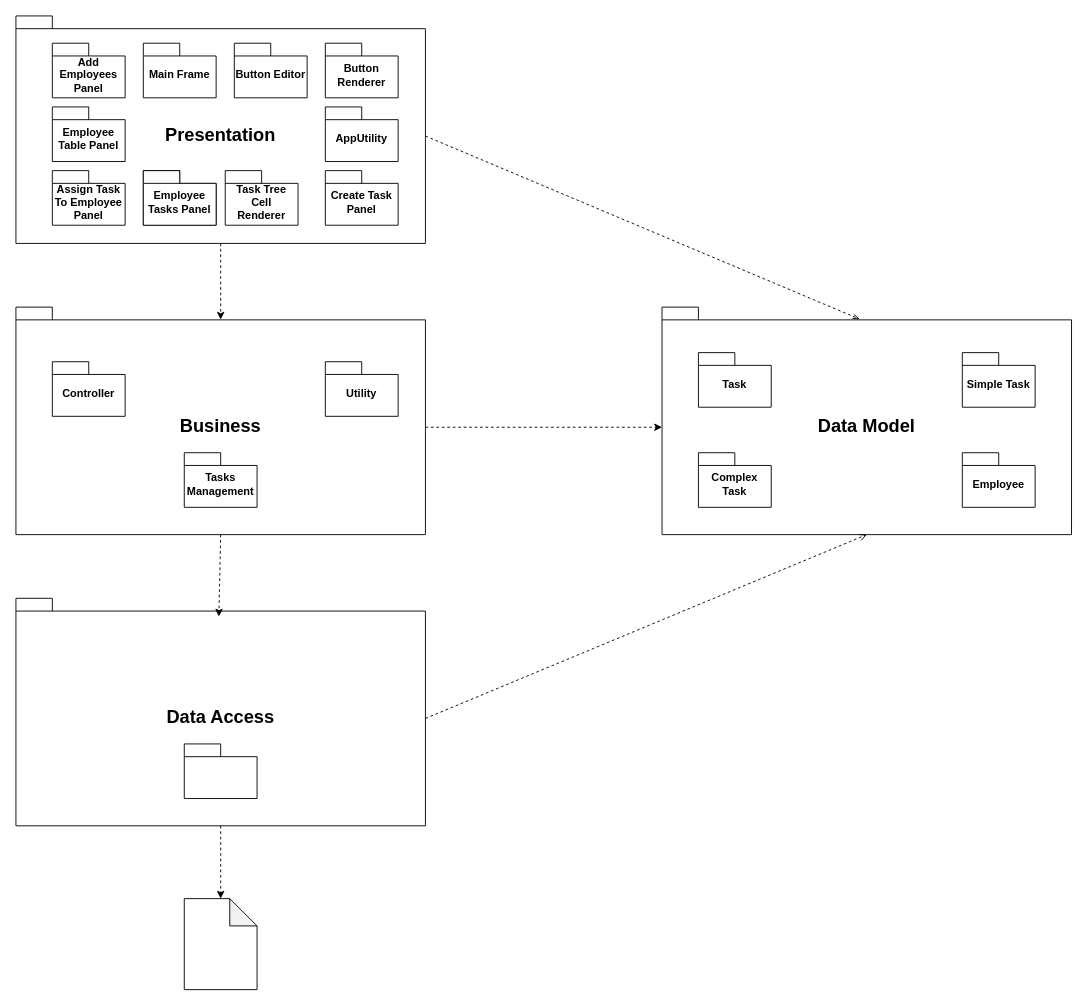
This 1087x1006 diagram has some shape labels left out. Here are the shapes that lost their labels. From the top down, the centre of each, then its label:
the point at 220,771: Serialization Handler
the point at 220,944: .bin file
